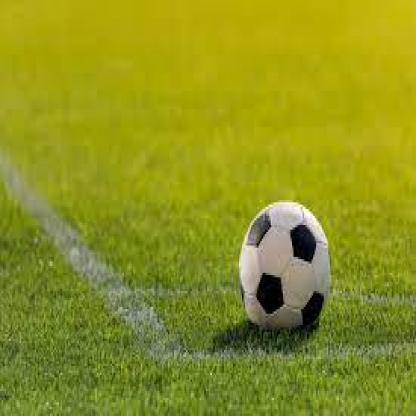ball: (240, 200, 330, 332)
